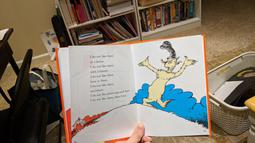text block: (84, 53, 134, 100)
